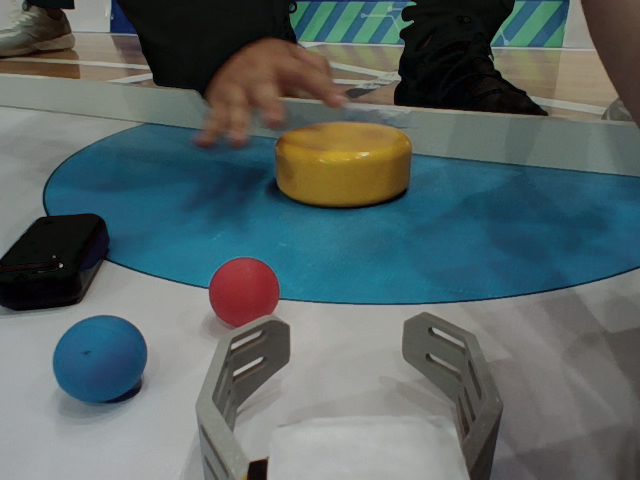black: (1, 209, 131, 313)
blue: (50, 318, 157, 405)
red: (201, 254, 290, 326)
yellow: (267, 116, 423, 208)
